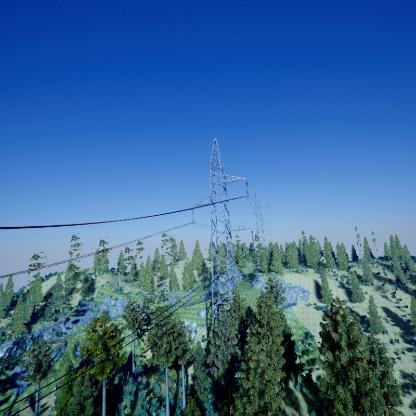tower: (185, 131, 252, 307)
